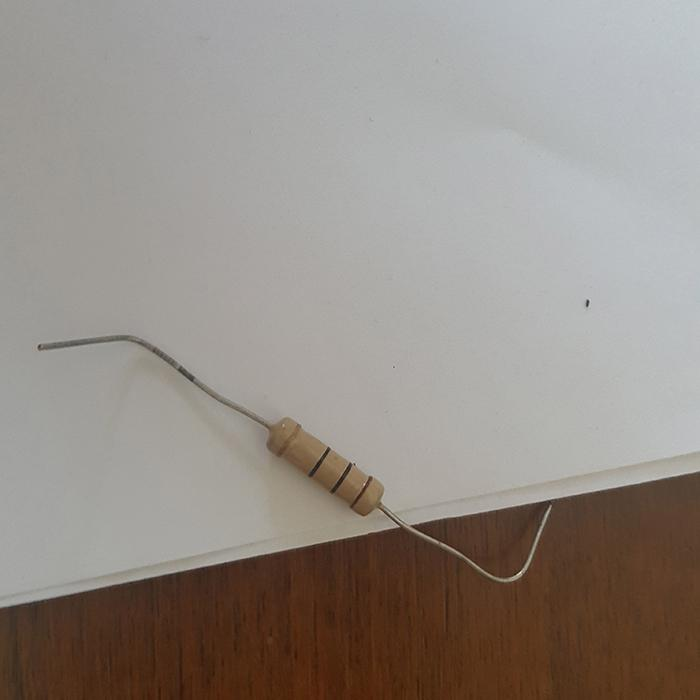resistor: (266, 417, 382, 514)
